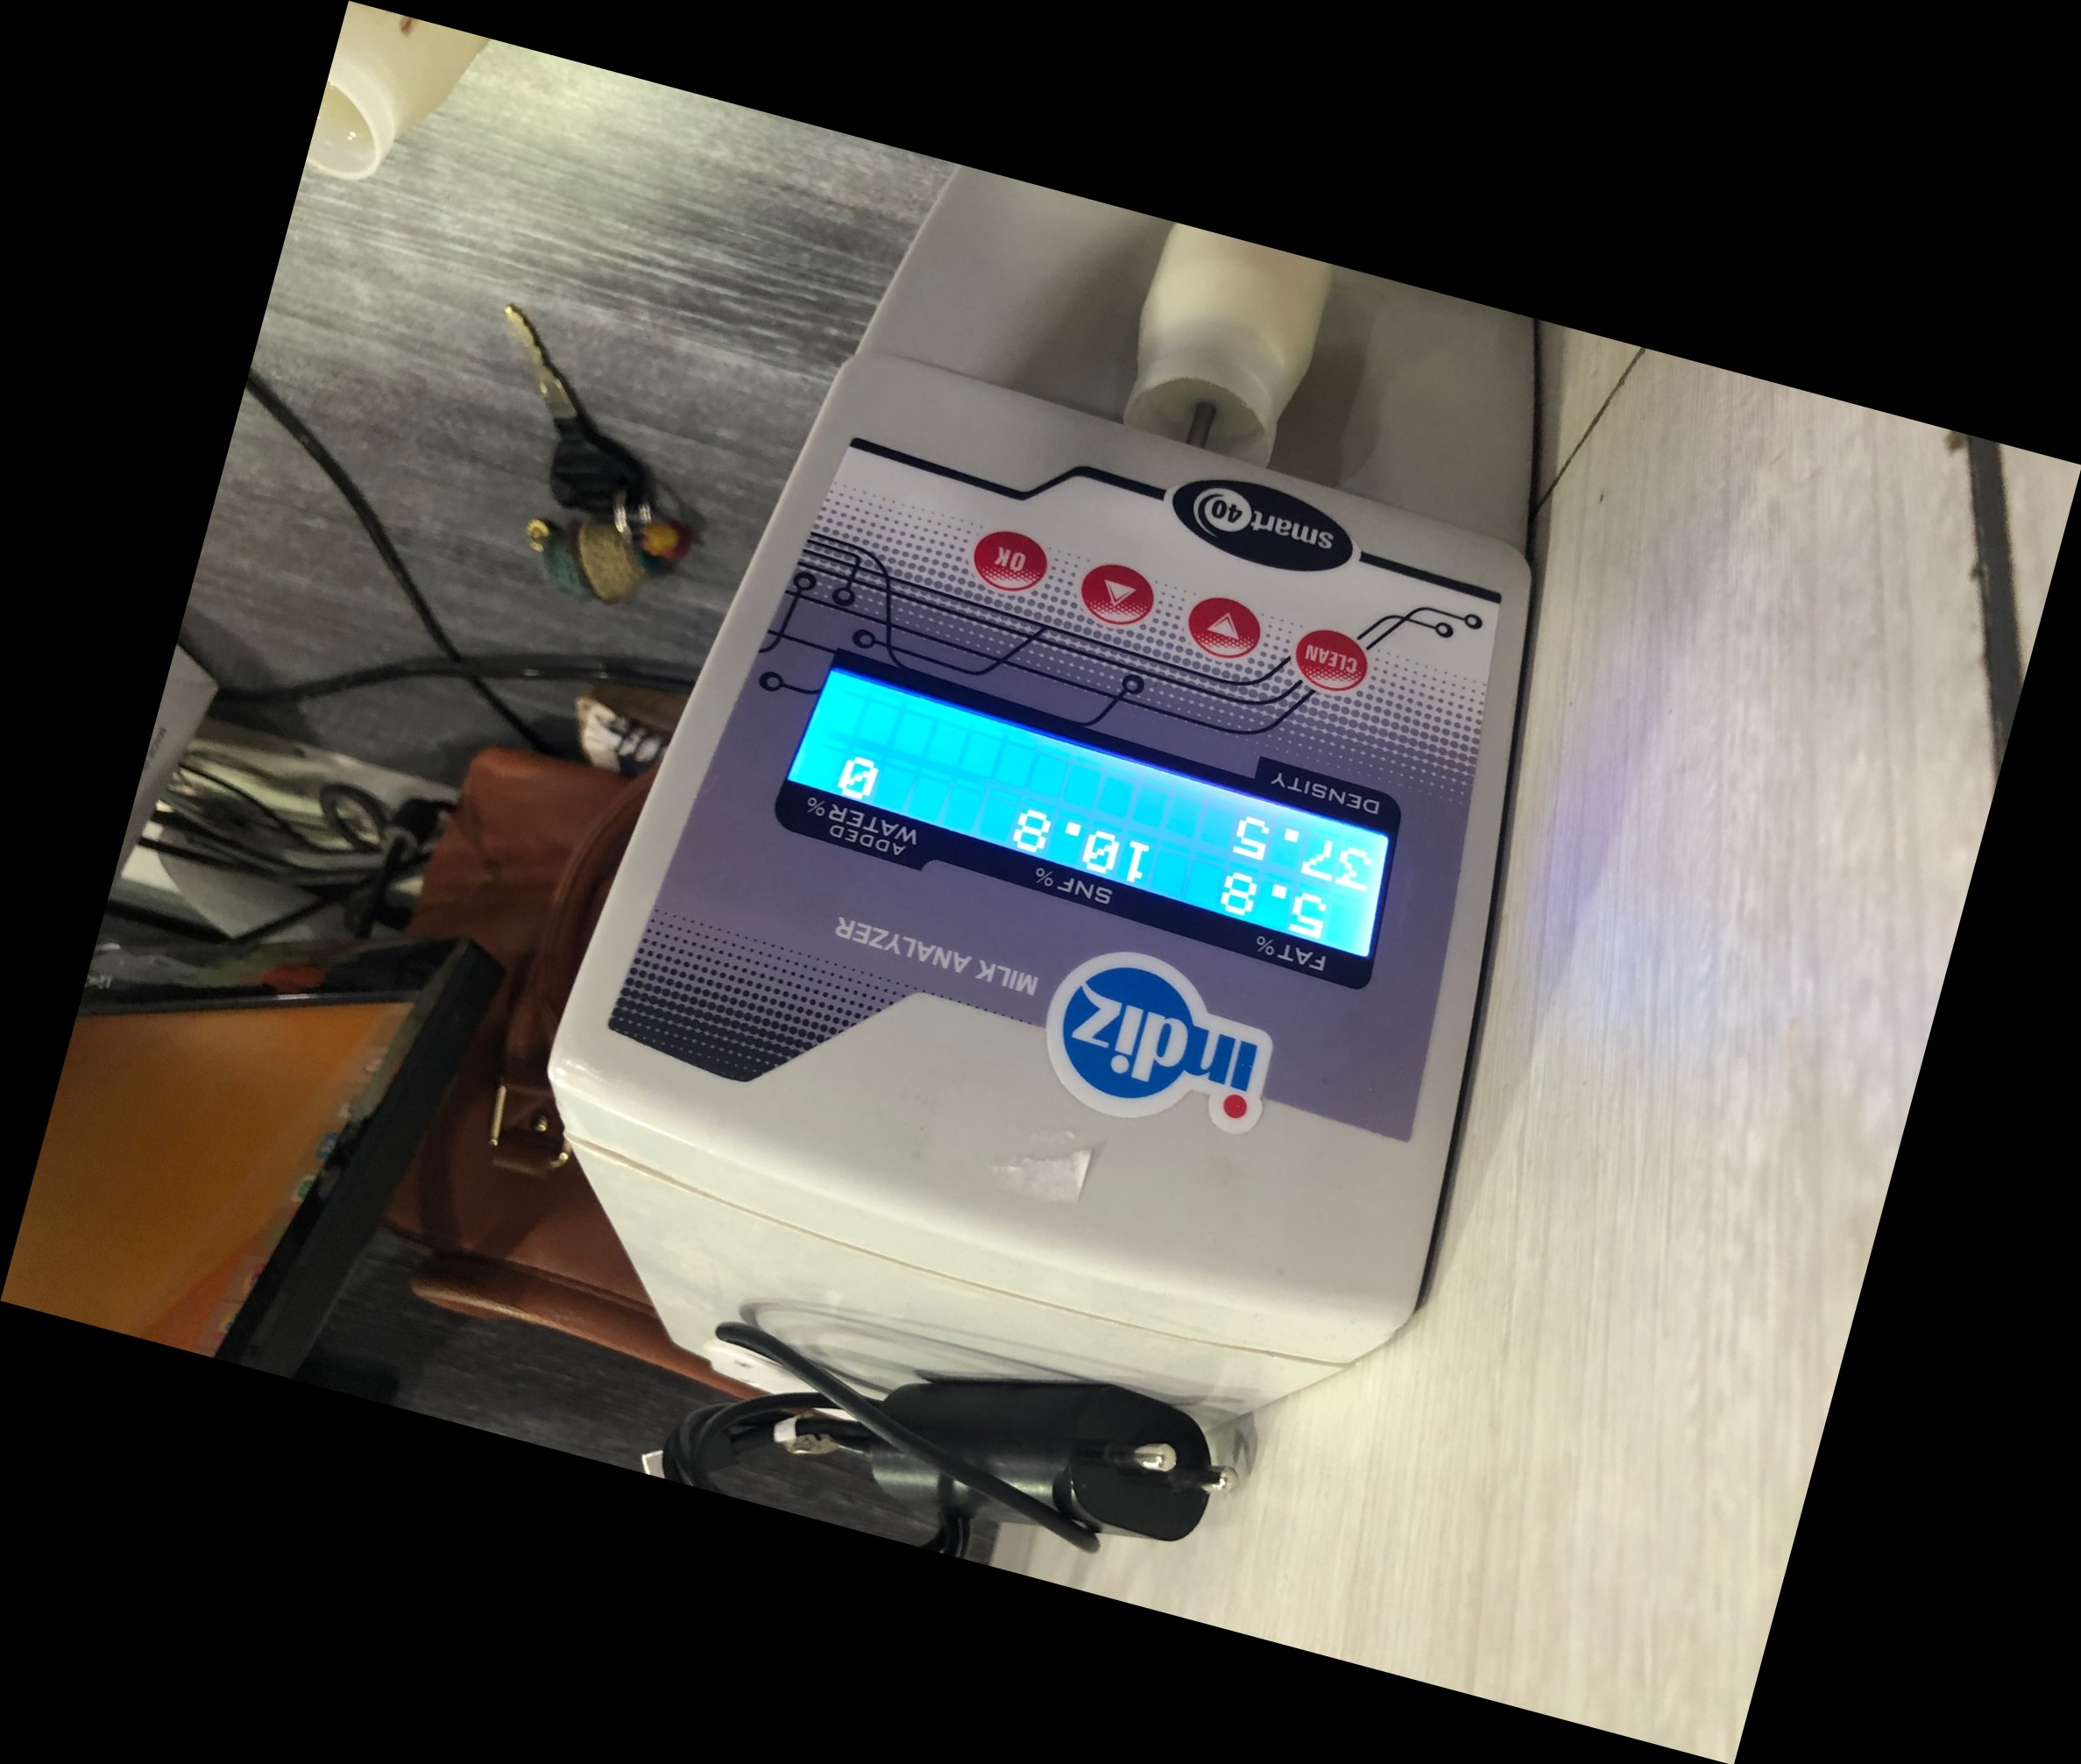lcd: (753, 635, 1414, 1029)
